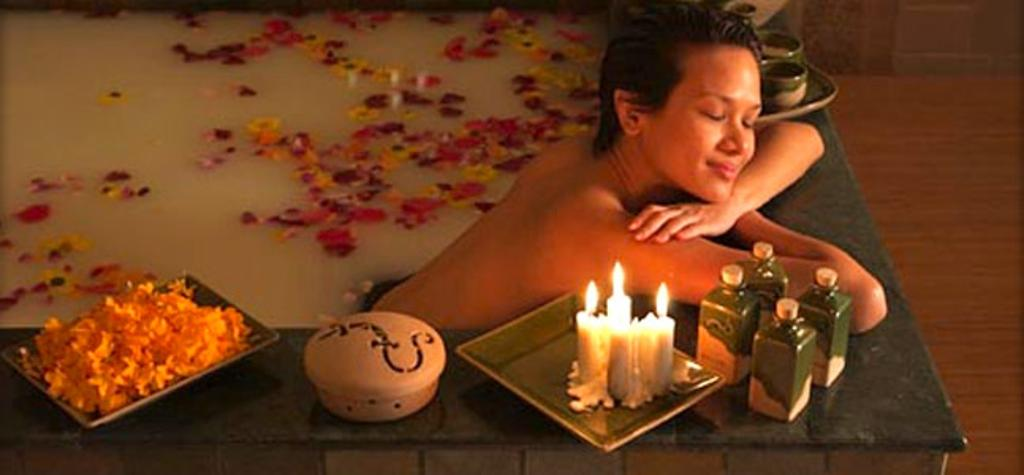face: (662, 54, 762, 202)
